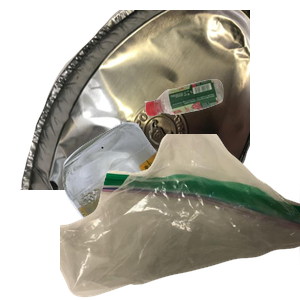glass: (60, 120, 300, 300)
metal: (18, 10, 258, 190)
plastic: (142, 77, 300, 186)
trash: (60, 134, 300, 300)
